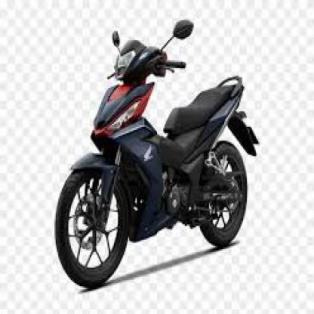Motocicleta: (51, 19, 261, 289)
